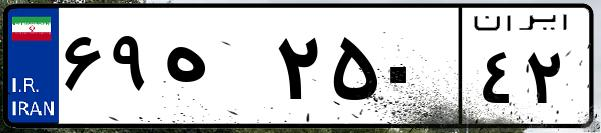0: (385, 28, 445, 110)
2: (270, 28, 330, 110), (525, 38, 570, 115)
4: (475, 38, 525, 113)
5: (330, 28, 385, 110)
6: (57, 26, 110, 100)
9: (110, 28, 158, 98)
ه: (158, 20, 270, 120)
